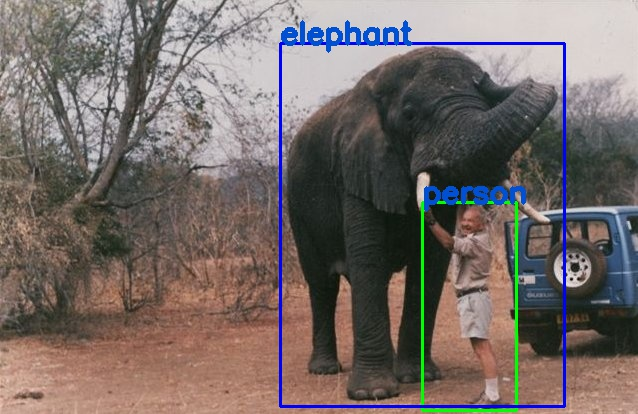elephant: (280, 43, 563, 406)
person: (422, 201, 516, 409)
